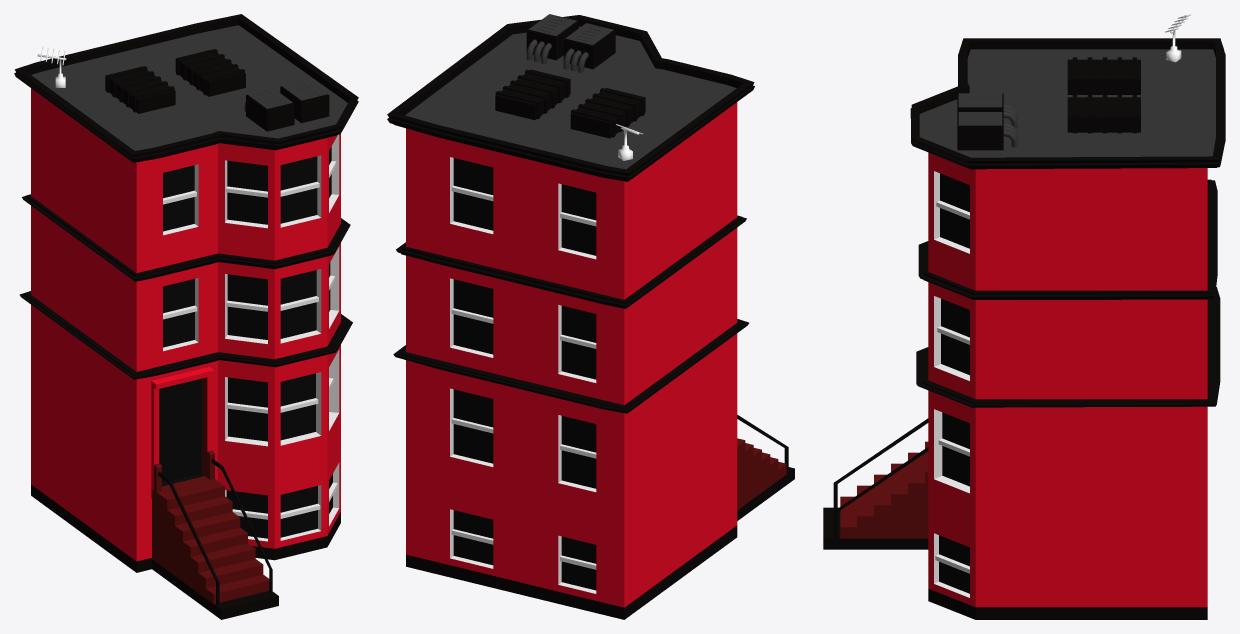
The model's file is Corner Building.fbx.
3 renders of one model, left to right at view 1: azimuth 30°, elevation 25°; view 2: azimuth 150°, elevation 25°; view 3: azimuth 270°, elevation 25°, orthographic. The views are drawn at different scales.
Parts seen in each view (by area): view 1: Corner Building; view 2: Corner Building; view 3: Corner Building.
Part boxes in pixels (x1=…): Corner Building: x1=14, y1=14, x2=358, y2=619; Corner Building: x1=387, y1=14, x2=794, y2=619; Corner Building: x1=823, y1=14, x2=1225, y2=619.
Size of the model in its own units: 4.68 by 8.84 by 6.46.
